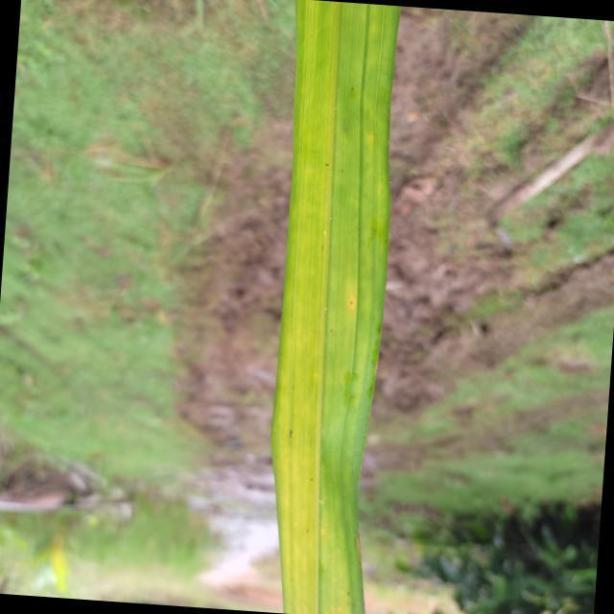nitrogen: (278, 0, 398, 614)
